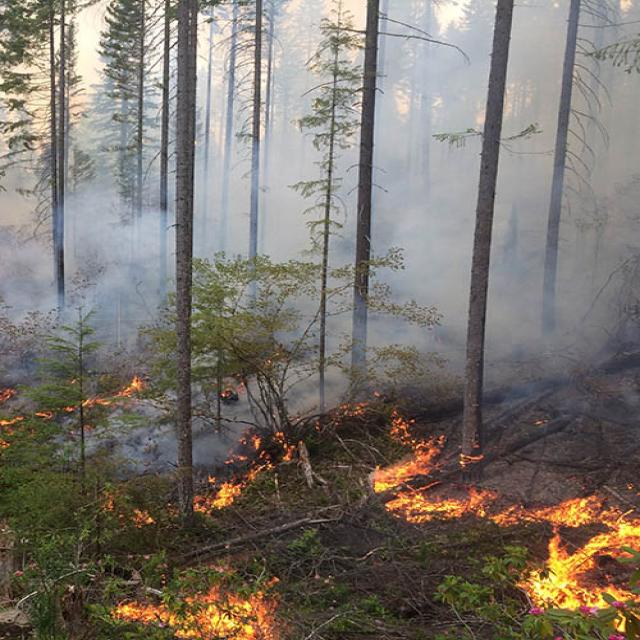fire: (522, 494, 640, 617), (369, 445, 515, 532), (120, 596, 279, 640), (194, 476, 238, 514)
smoke: (382, 40, 636, 352), (200, 43, 342, 267), (0, 182, 170, 336)
